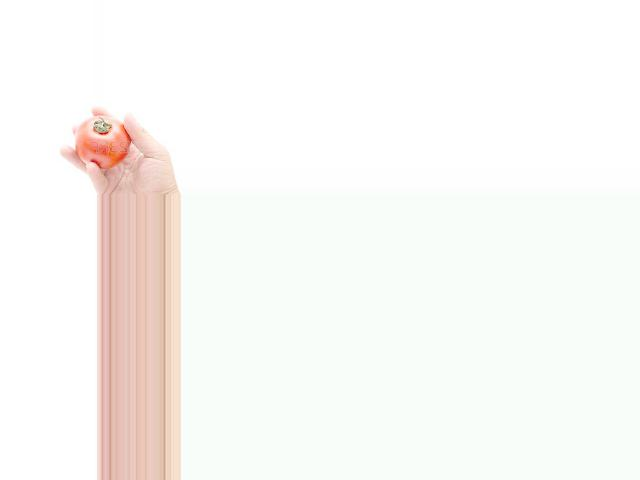tomato: (74, 116, 130, 168)
